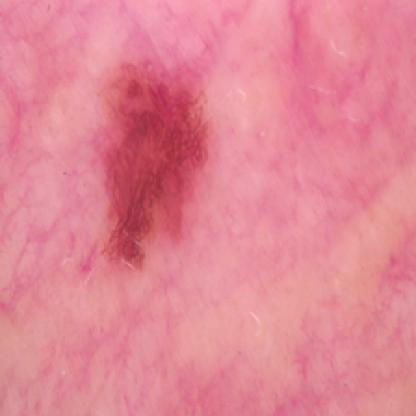benign: (84, 48, 232, 279)
